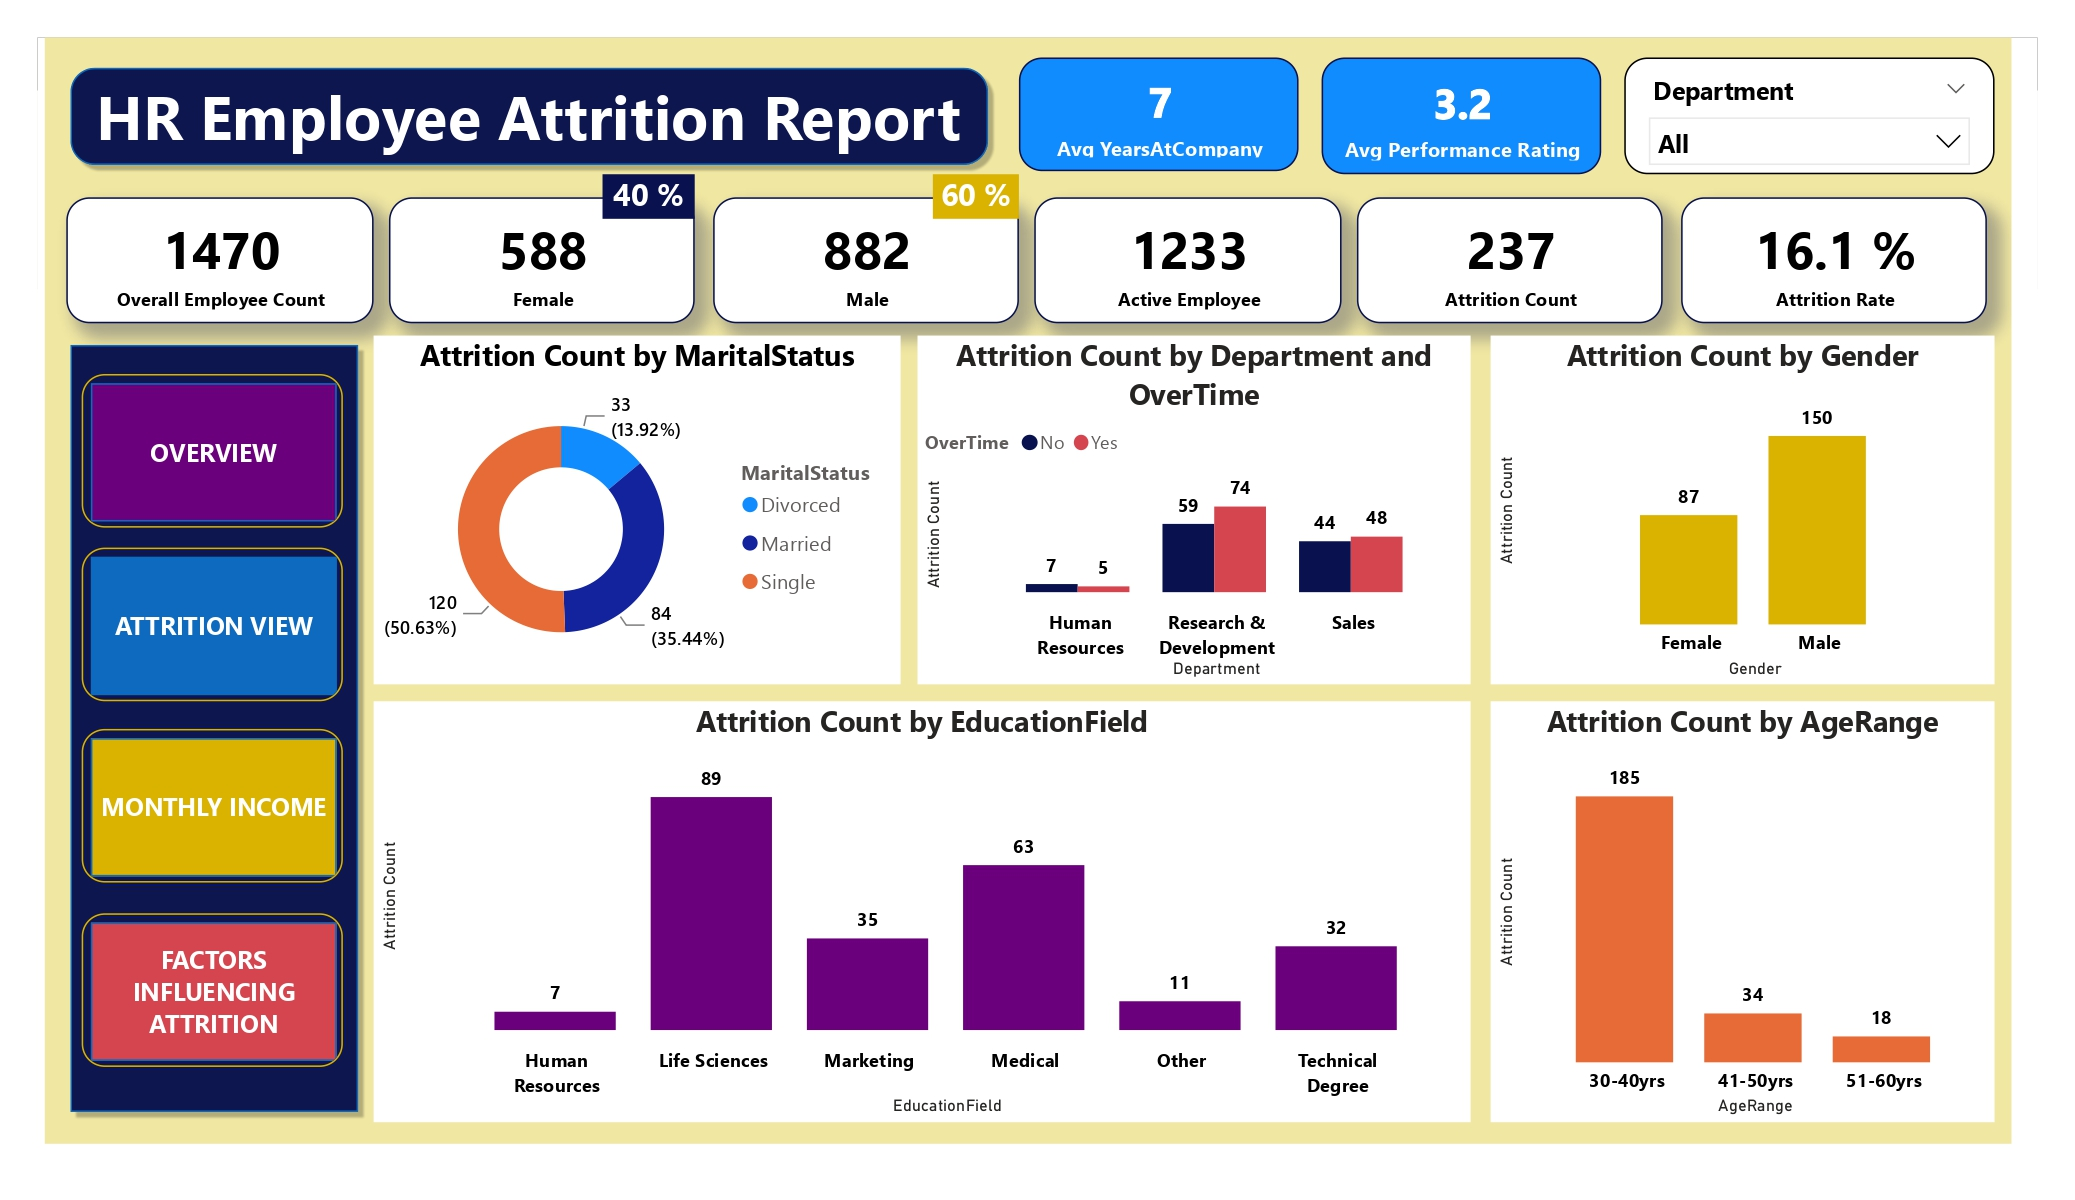

Layout of this report page (visuals, bound fields, positions):
{"tool":"powerbi","page":{"name":"Page 1","canvas":[1280,720],"ordinal":0},"visuals":[{"type":"card","fields":{"Values":["HR-Employee-Attrition.Overall Employee Count"]},"box":[14.1,104.1,199.7,81.6],"z":0,"group":"g1"},{"type":"card","fields":{"Values":["HR-Employee-Attrition.Avg Performance Rating"]},"box":[831.3,12.7,181.5,76],"z":0},{"type":"card","fields":{"Values":["HR-Employee-Attrition.Female"]},"box":[223.7,104.1,199.7,81.6],"z":1000,"group":"g1"},{"type":"card","fields":{"Values":["HR-Employee-Attrition.Avg YearsAtCompany"]},"box":[634.4,12.7,181.5,74.5],"z":1000},{"type":"card","fields":{"Values":["HR-Employee-Attrition.Male"]},"box":[434.7,104.1,199.7,81.6],"z":2000,"group":"g1"},{"type":"shape","box":[9.8,12.7,610.5,76],"z":2000},{"type":"card","fields":{"Values":["HR-Employee-Attrition.Active Employee"]},"box":[644.3,104.1,199.7,81.6],"z":3000,"group":"g1"},{"type":"slicer","fields":{"Values":["HR-Employee-Attrition.Department"]},"box":[1028.2,12.7,240.5,76],"z":3000},{"type":"card","fields":{"Values":["HR-Employee-Attrition.Attrition Count"]},"box":[853.8,104.1,199.7,81.6],"z":4000,"group":"g1"},{"type":"group","id":"g1","title":"Group 1","box":[14.1,104.1,1250.5,81.6],"z":4000},{"type":"card","fields":{"Values":["HR-Employee-Attrition.Attrition Rate"]},"box":[1064.8,104.1,199.7,81.6],"z":5000,"group":"g1"},{"type":"shape","box":[9.8,194.1,199.7,512],"z":5000},{"type":"donutChart","fields":{"Category":["HR-Employee-Attrition.Attrition"],"Y":["HR-Employee-Attrition.Overall Employee Count"]},"box":[225.1,199.7,343.2,220.8],"z":6000},{"type":"columnChart","fields":{"Category":["HR-Employee-Attrition.EducationField"],"Y":["HR-Employee-Attrition.Overall Employee Count"]},"box":[225.1,431.8,343.2,275.7],"z":7000},{"type":"clusteredColumnChart","fields":{"Category":["HR-Employee-Attrition.JobRole"],"Y":["HR-Employee-Attrition.Overall Employee Count"]},"box":[578.1,199.7,690.6,220.8],"z":8000},{"type":"clusteredBarChart","fields":{"Category":["HR-Employee-Attrition.MaritalStatus"],"Y":["HR-Employee-Attrition.Overall Employee Count"]},"box":[578.1,431.8,334.8,275.7],"z":9000},{"type":"clusteredColumnChart","title":"Average Age by Department and Attrition","fields":{"Category":["HR-Employee-Attrition.Department"],"Y":["Avg(HR-Employee-Attrition.Age)"],"Series":["HR-Employee-Attrition.Attrition"]},"box":[922.7,431.8,346,275.7],"z":10000},{"type":"card","fields":{"Values":["HR-Employee-Attrition.% Female"]},"box":[362.9,88.6,60.5,29.5],"z":11000},{"type":"card","fields":{"Values":["HR-Employee-Attrition.% Male"]},"box":[578.1,88.6,56.3,29.5],"z":12000},{"type":"shape","box":[23.9,332,170.2,99.9],"z":13000},{"type":"shape","box":[23.9,450.1,170.2,99.9],"z":14000},{"type":"shape","box":[23.9,569.7,170.2,99.9],"z":15000},{"type":"shape","box":[23.9,219.4,170.2,99.9],"z":16000}]}

Visuals, with their boxes on the page's 1280x720 design canvas (x1, y1, x2, y2). These are canvas units, not pixel positions in the 2075x1200 screenshot, which may show the page scaled, cropped or inside an application window:
card - HR-Employee-Attrition.Overall Employee Count: 14:104:214:186
card - HR-Employee-Attrition.Avg Performance Rating: 831:13:1013:89
card - HR-Employee-Attrition.Female: 224:104:423:186
card - HR-Employee-Attrition.Avg YearsAtCompany: 634:13:816:87
card - HR-Employee-Attrition.Male: 435:104:634:186
shape: 10:13:620:89
card - HR-Employee-Attrition.Active Employee: 644:104:844:186
slicer - HR-Employee-Attrition.Department: 1028:13:1269:89
card - HR-Employee-Attrition.Attrition Count: 854:104:1054:186
"Group 1" group: 14:104:1265:186
card - HR-Employee-Attrition.Attrition Rate: 1065:104:1264:186
shape: 10:194:210:706
donutChart - HR-Employee-Attrition.Attrition x HR-Employee-Attrition.Overall Employee Count: 225:200:568:420
columnChart - HR-Employee-Attrition.EducationField x HR-Employee-Attrition.Overall Employee Count: 225:432:568:708
clusteredColumnChart - HR-Employee-Attrition.JobRole x HR-Employee-Attrition.Overall Employee Count: 578:200:1269:420
clusteredBarChart - HR-Employee-Attrition.MaritalStatus x HR-Employee-Attrition.Overall Employee Count: 578:432:913:708
"Average Age by Department and Attrition" clusteredColumnChart: 923:432:1269:708
card - HR-Employee-Attrition.% Female: 363:89:423:118
card - HR-Employee-Attrition.% Male: 578:89:634:118
shape: 24:332:194:432
shape: 24:450:194:550
shape: 24:570:194:670
shape: 24:219:194:319
